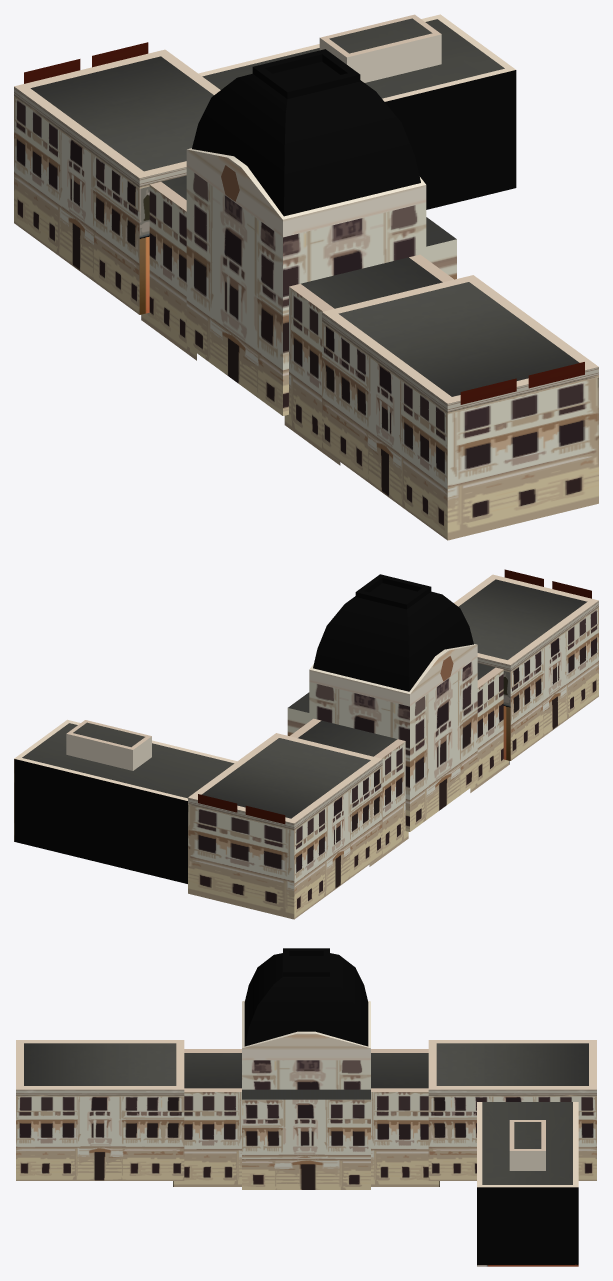
Rendered from SM_Building_MetropoleHotel_01.fbx.
3 views of the same model, one above another, from view 1: azimuth 30°, elevation 25°; view 2: azimuth 150°, elevation 25°; view 3: azimuth 270°, elevation 25° (orthographic). The views are drawn at different scales.
Visible parts, largest first — view 1: SM_Building_MetropoleHotel_01; view 2: SM_Building_MetropoleHotel_01; view 3: SM_Building_MetropoleHotel_01.
Part boxes in pixels (x1,y1,x2,y2): SM_Building_MetropoleHotel_01: (14, 14, 598, 540); SM_Building_MetropoleHotel_01: (14, 569, 598, 919); SM_Building_MetropoleHotel_01: (16, 948, 596, 1266).
Size of the model in its own units: 13.75 by 9.74 by 25.16.
